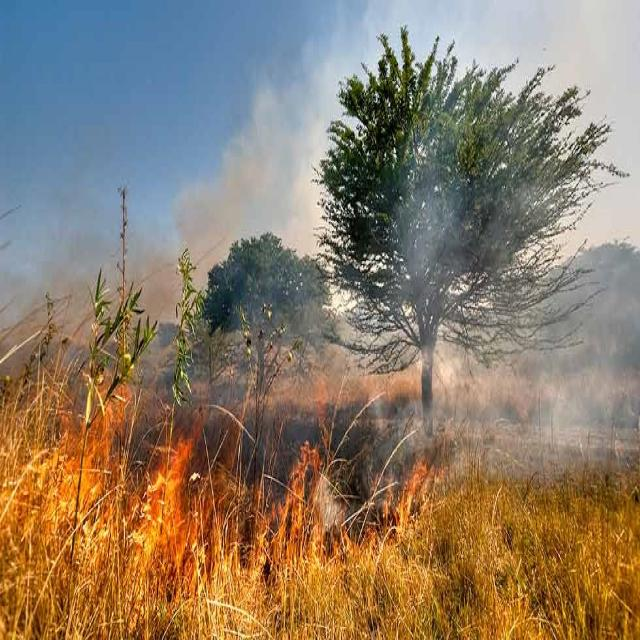smoke: (408, 310, 614, 451)
